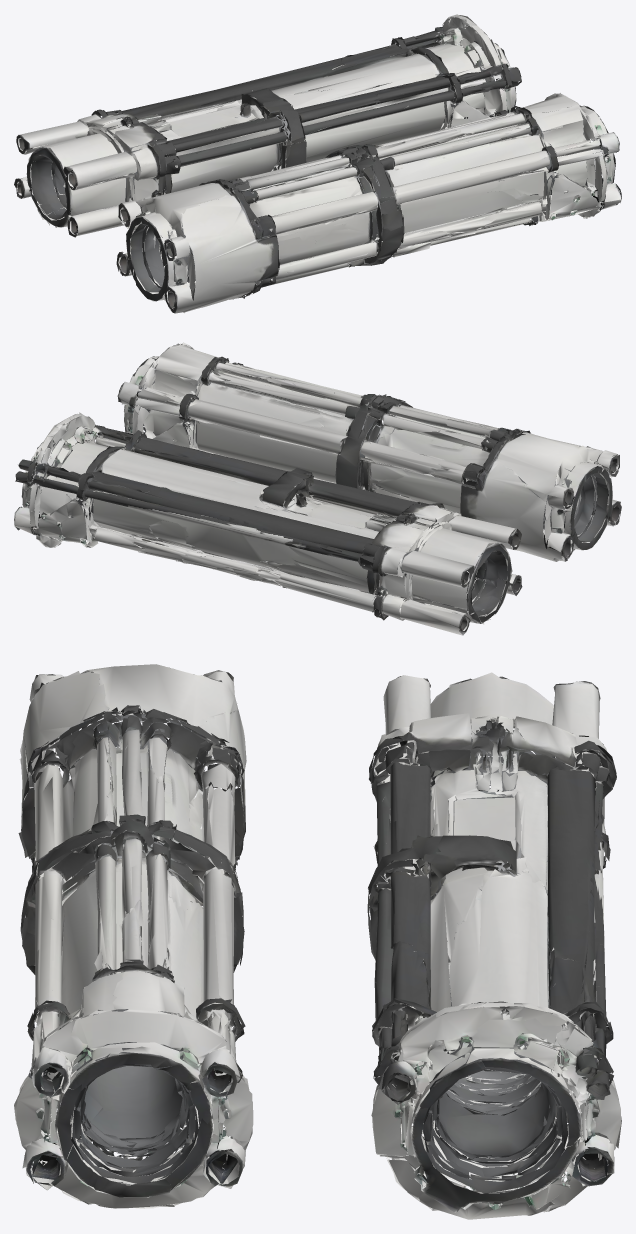
The model's file is riser_qtr.glb.
3 views of the same model, one above another, from view 1: azimuth 30°, elevation 25°; view 2: azimuth 150°, elevation 25°; view 3: azimuth 270°, elevation 25° (orthographic). The views are drawn at different scales.
Visible parts, largest first — view 1: model; view 2: model; view 3: model.
Part boxes in pixels (x1=…): model: x1=14, y1=14, x2=621, y2=313; model: x1=14, y1=342, x2=621, y2=635; model: x1=14, y1=664, x2=621, y2=1219.
Size of the model in its own units: 1.91 by 0.4955 by 1.25.
1 material, 1 textured.
